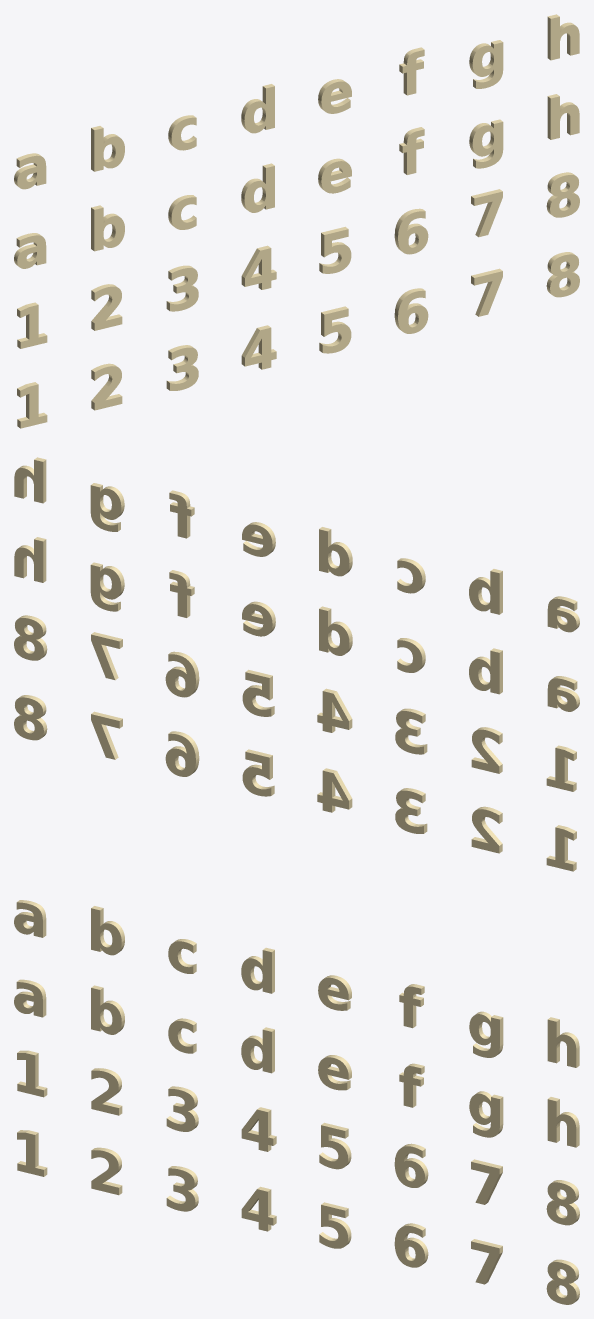
File: .notation_insert_set.step.glb
3 renders of one model, top to bottom at view 1: azimuth 30°, elevation 25°; view 2: azimuth 150°, elevation 25°; view 3: azimuth 330°, elevation 25°, orthographic.
Visible parts, largest first — view 1: o1.15, o1.7, o1.32, o1.24, o1.22, o1.30, o1.2, o1.10, o1.12, o1.4, o1.8, o1.16 (+20 smaller); view 2: o1.15, o1.7, o1.32, o1.24, o1.22, o1.30, o1.2, o1.10, o1.12, o1.4, o1.8, o1.16 (+20 smaller); view 3: o1.7, o1.15, o1.32, o1.24, o1.10, o1.30, o1.2, o1.22, o1.4, o1.12, o1.8, o1.21 (+20 smaller).
Boxes of the visible parts, x1,y1,x2,y2 form: o1.15: (469, 119, 503, 168); o1.7: (469, 40, 503, 88); o1.32: (546, 252, 579, 297); o1.24: (546, 172, 579, 217); o1.22: (394, 208, 428, 254); o1.30: (394, 288, 428, 333); o1.2: (91, 126, 124, 171); o1.10: (91, 205, 124, 251); o1.12: (241, 163, 274, 212); o1.4: (241, 84, 274, 133); o1.8: (547, 14, 579, 60); o1.16: (547, 94, 579, 139); o1.15: (90, 562, 124, 611); o1.7: (90, 483, 124, 531); o1.32: (14, 695, 47, 740); o1.24: (14, 615, 47, 660); o1.22: (165, 651, 199, 697); o1.30: (165, 731, 199, 776); o1.2: (469, 569, 502, 614); o1.10: (469, 648, 502, 694); o1.12: (319, 606, 352, 655); o1.4: (319, 527, 352, 576); o1.8: (14, 457, 46, 503); o1.16: (14, 537, 46, 582); o1.7: (469, 1011, 503, 1057); o1.15: (469, 1091, 503, 1137); o1.32: (546, 1259, 579, 1304); o1.24: (546, 1180, 579, 1225); o1.10: (91, 985, 124, 1034); o1.30: (394, 1223, 428, 1267); o1.2: (91, 906, 124, 955); o1.22: (394, 1143, 428, 1187); o1.4: (241, 947, 274, 993); o1.12: (241, 1027, 274, 1073); o1.8: (547, 1017, 579, 1067); o1.21: (319, 1122, 351, 1169).
Bounding box in the file's own units: 0.1184 × 0.0565 × 0.0012.
